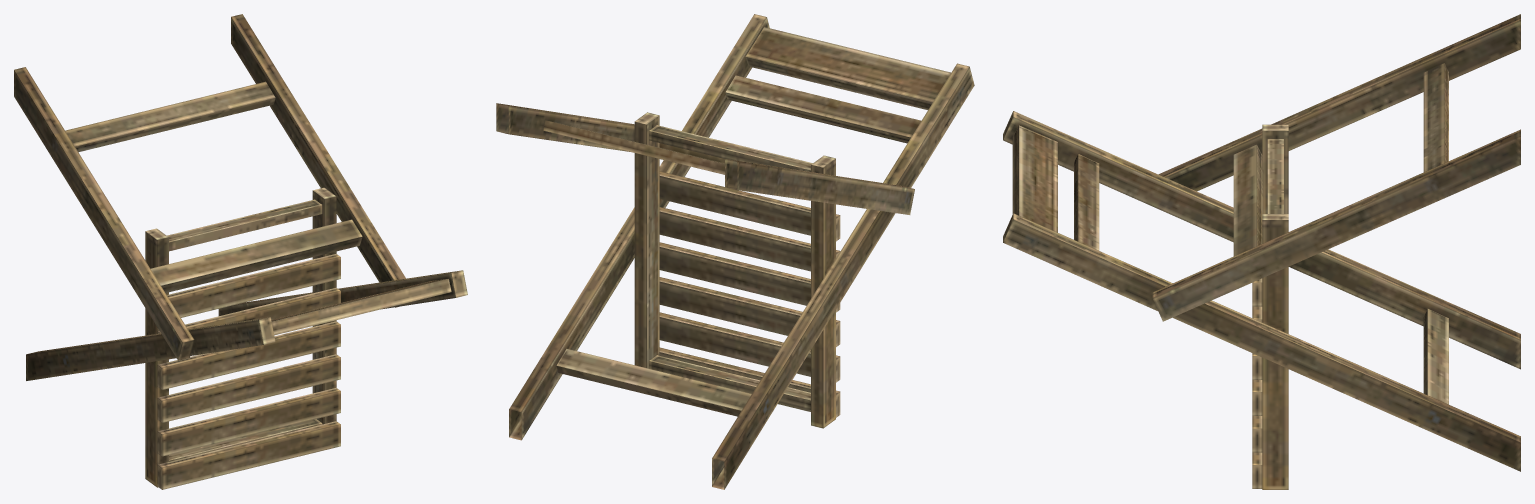
File: h26_br_052_Chair.glb
3 renders of one model, left to right at view 1: azimuth 30°, elevation 25°; view 2: azimuth 150°, elevation 25°; view 3: azimuth 270°, elevation 25°, orthographic. The views are drawn at different scales.
Parts seen in each view (by area): view 1: set_0_group_0; view 2: set_0_group_0; view 3: set_0_group_0.
Part boxes in pixels (x1,y1,x2,y2): set_0_group_0: [14, 14, 467, 489]; set_0_group_0: [496, 14, 974, 489]; set_0_group_0: [1003, 14, 1520, 489].
Size of the model in its own units: 0.5557 by 0.783 by 1.
Materials: 1 (1 with a texture image).
